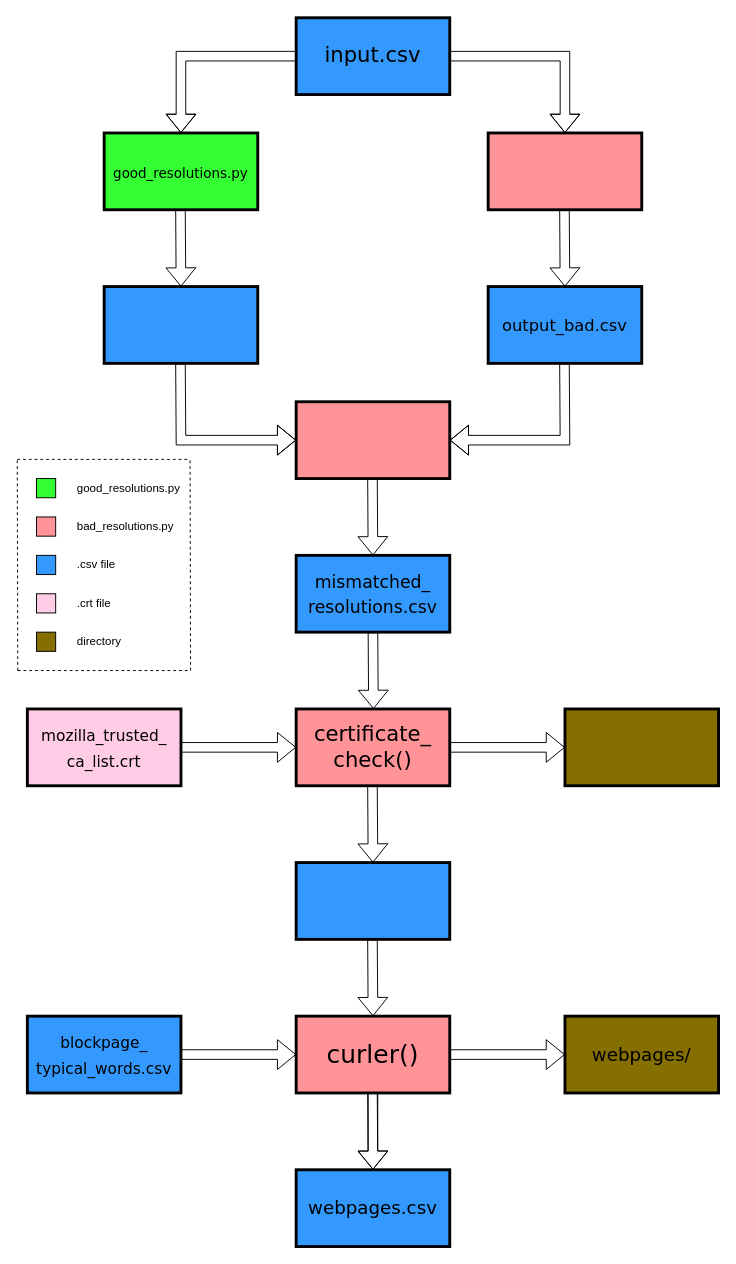
Some shapes in this 736 by 1264 pixel diagram are drawn without their labels. The centre of each missing label's shape, as x and y in pixels:
bad_resolutions(): the point at 564,171
certificates.csv: the point at 372,900
certificates/: the point at 641,747
comparison(): the point at 372,440
output_good.csv: the point at 180,324
